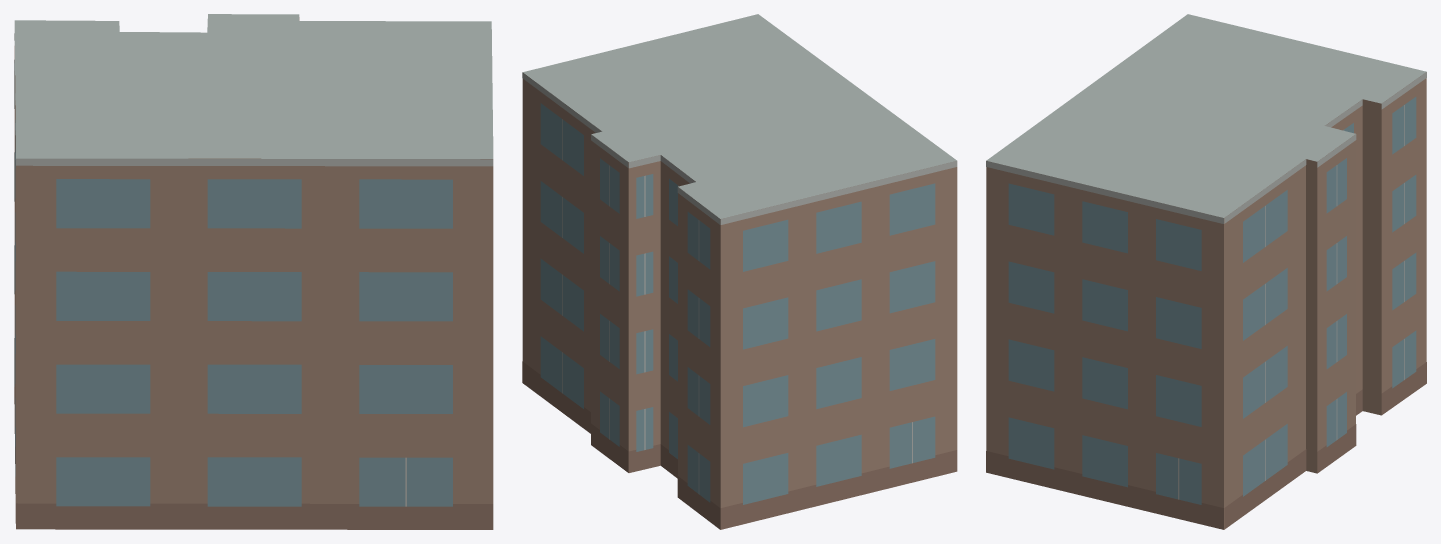
The model's file is survey-upis-32705785.glb.
3 renders of one model, left to right at view 1: azimuth 30°, elevation 25°; view 2: azimuth 150°, elevation 25°; view 3: azimuth 270°, elevation 25°, orthographic. The views are drawn at different scales.
Visible parts, largest first — view 1: survey-upis-32705785.tmp; view 2: survey-upis-32705785.tmp; view 3: survey-upis-32705785.tmp.
Boxes of the visible parts, <box> form: survey-upis-32705785.tmp: <box>14,14,493,529</box>; survey-upis-32705785.tmp: <box>522,14,957,529</box>; survey-upis-32705785.tmp: <box>986,14,1426,529</box>.
Bounding box in the file's own units: 17.41 × 12.4 × 15.89.
